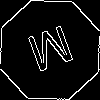M: (25, 25, 80, 82)
